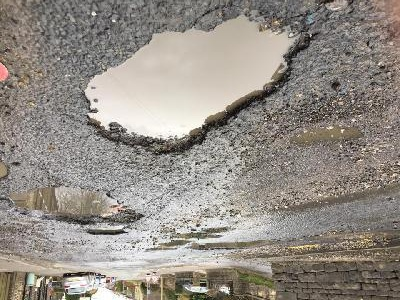pothole: (79, 10, 315, 159), (5, 185, 146, 226), (287, 121, 366, 148), (84, 226, 129, 238), (0, 159, 10, 180)
